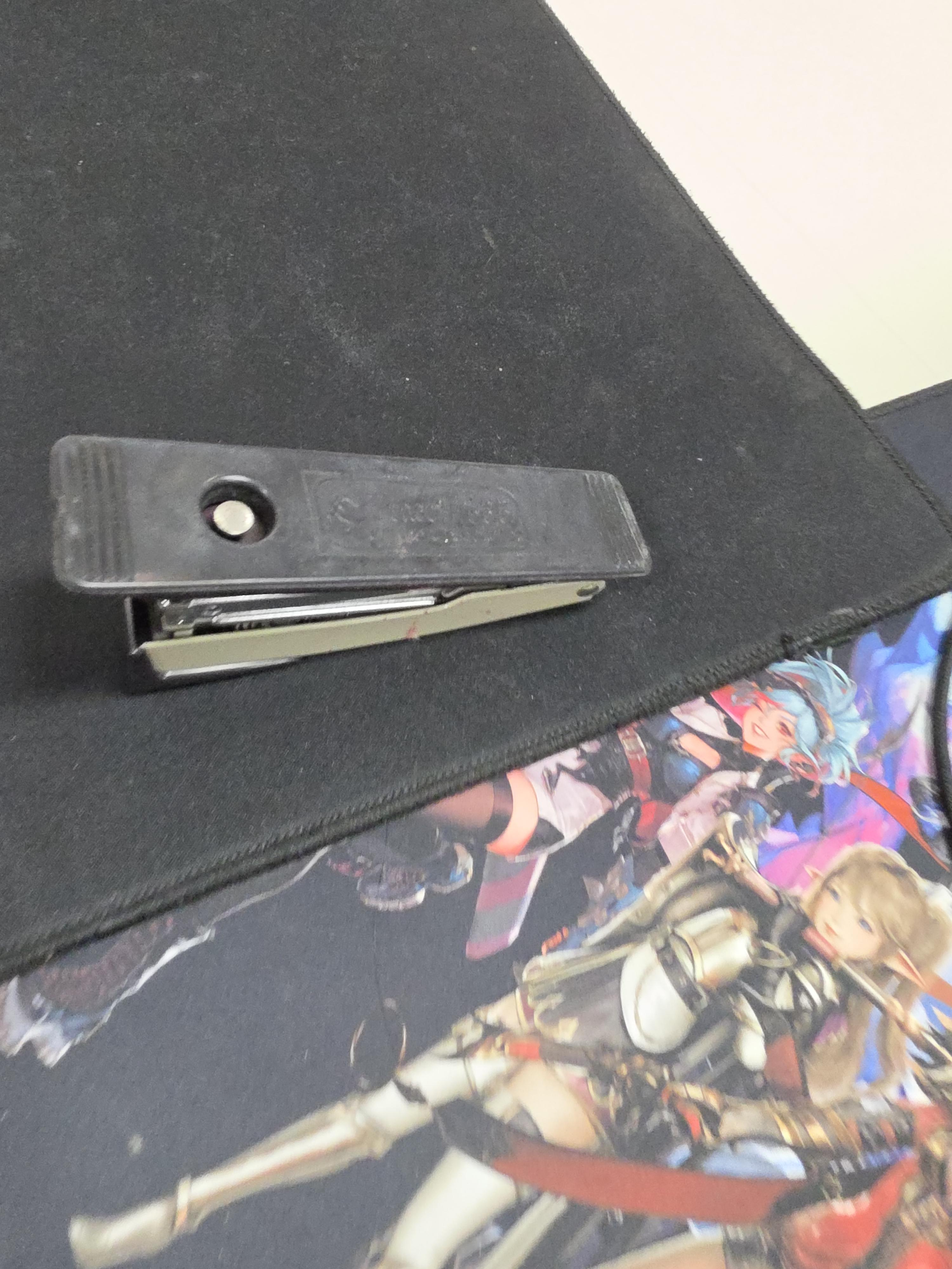stapler: (50, 434, 652, 693)
